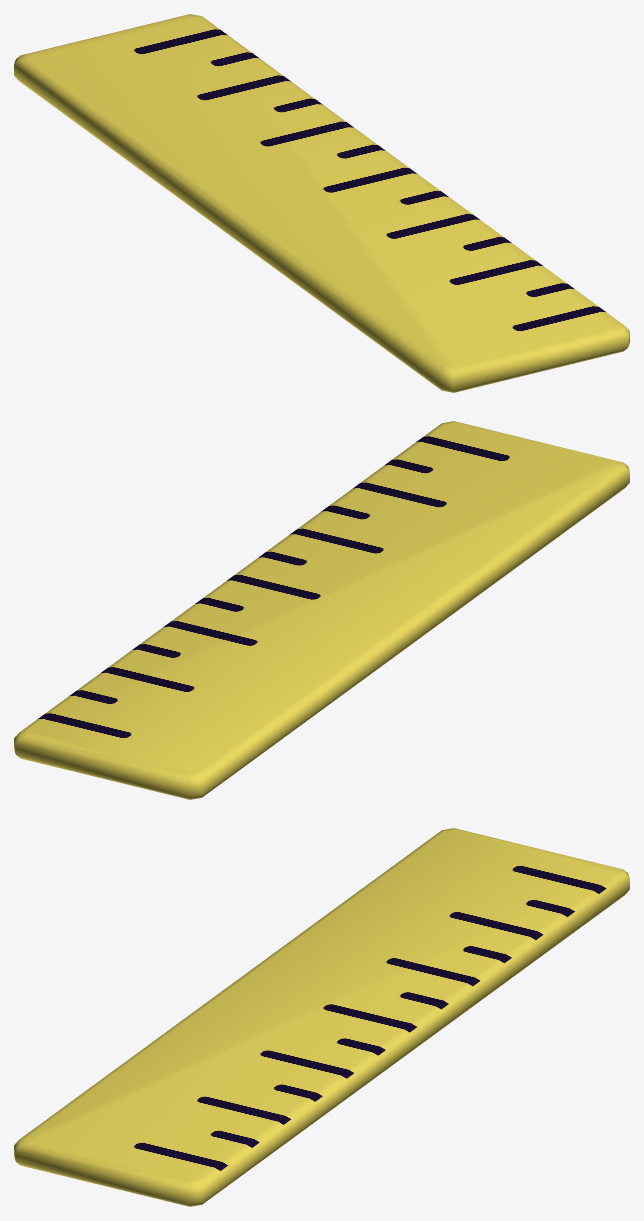
The model's file is Ruler_Corrected.fbx.
3 views of the same model, one above another, from view 1: azimuth 30°, elevation 25°; view 2: azimuth 150°, elevation 25°; view 3: azimuth 330°, elevation 25° (orthographic).
Visible parts, largest first — view 1: Cube; view 2: Cube; view 3: Cube.
Boxes of the visible parts, x1,y1,x2,y2 form: Cube: [14, 14, 629, 392]; Cube: [14, 421, 629, 799]; Cube: [14, 828, 629, 1206].
Size of the model in its own units: 5.35 by 0.6506 by 21.48.
1 material, 1 textured.
